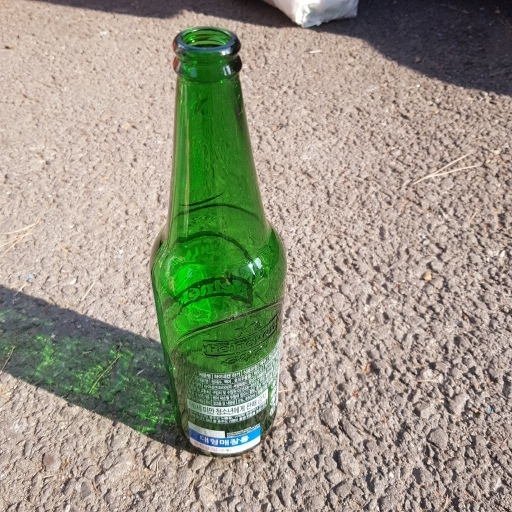Glass_1: (142, 25, 291, 461)
